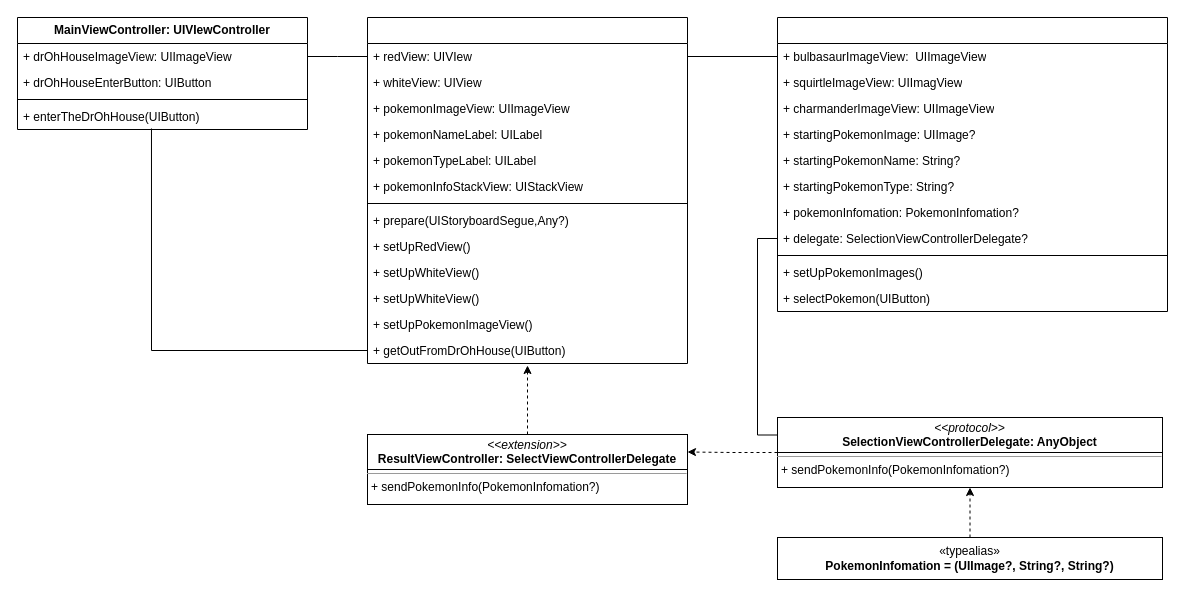
The diagram is 1185 pixels wide and 597 high, and some of its shapes have lost their labels. The shapes that lost their labels are listed below. From the top down, each one's box as (x1, y1, x2, y2) in pixels, then its label:
(776, 16, 1168, 312): SelectionViewContoller: UIViewController
(366, 16, 688, 364): ResultViewController: UIViewController
